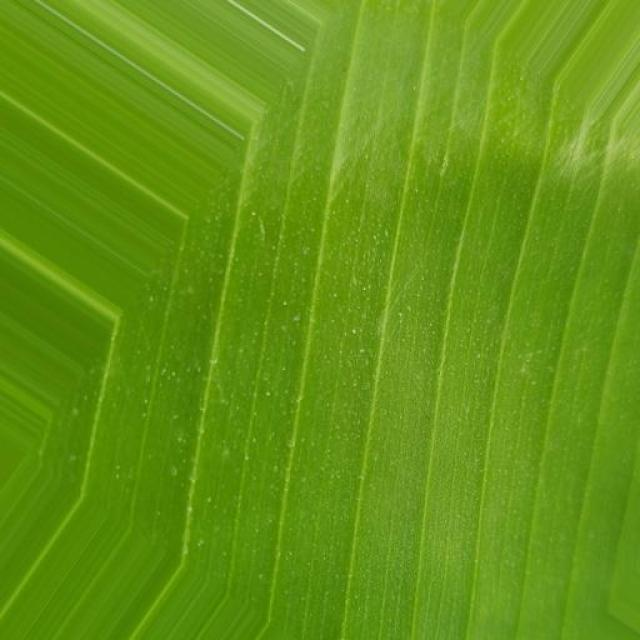Black_leaf_spot: (61, 34, 640, 619)
